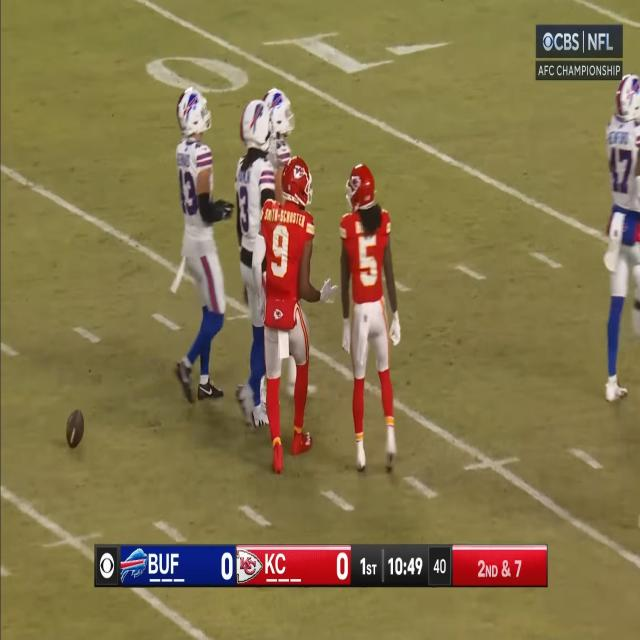Ball: (66, 408, 86, 451)
